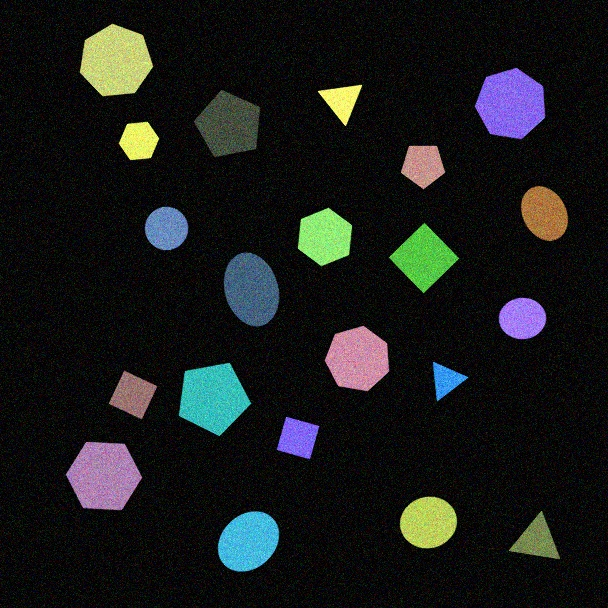Circulo: (399, 496, 458, 549), (498, 297, 547, 340), (144, 206, 189, 251)
Elipse: (223, 252, 280, 327), (217, 511, 280, 572), (520, 185, 569, 242)
Heptagono: (79, 23, 154, 97), (474, 67, 546, 140), (324, 325, 390, 392)
Hexagono: (65, 441, 143, 511), (297, 207, 353, 267), (118, 121, 160, 161)
Pentagono: (178, 362, 252, 437), (193, 89, 261, 158), (400, 145, 446, 190)
Quadrado: (388, 222, 460, 294), (108, 370, 158, 420), (276, 416, 320, 460)
Triangulo: (508, 511, 561, 560), (317, 84, 363, 127), (432, 361, 469, 402)
